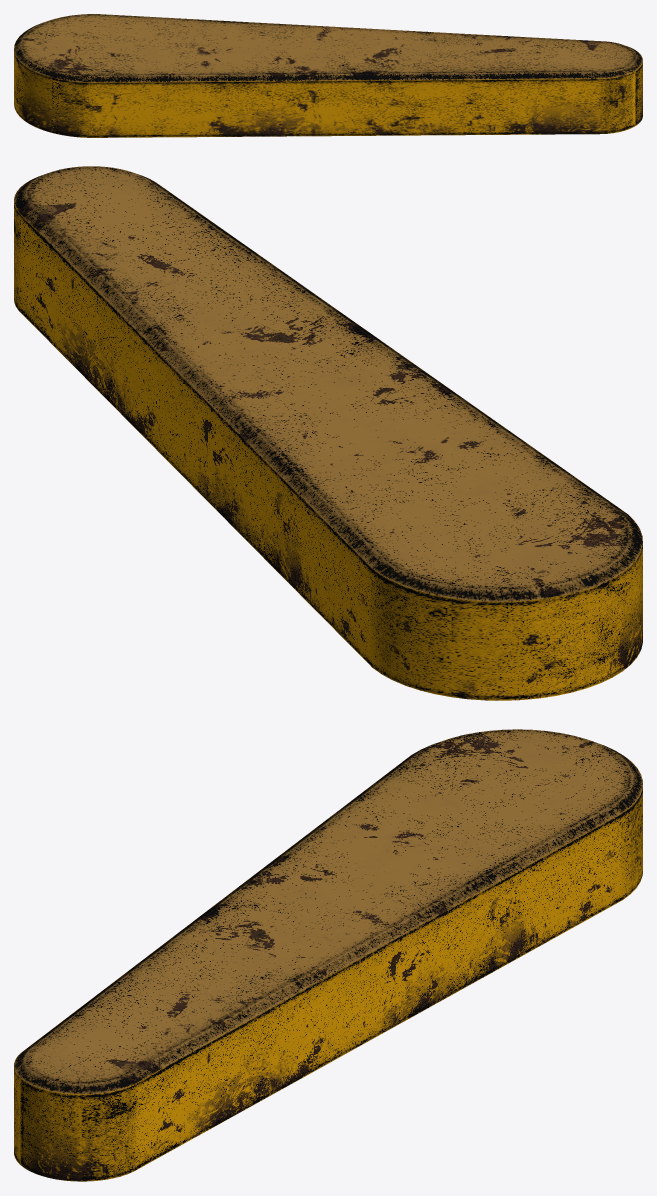
The model's file is newpinball_rebar12.fbx.
The picture shows the model from 3 angles, top to bottom: view 1: azimuth 30°, elevation 25°; view 2: azimuth 150°, elevation 25°; view 3: azimuth 270°, elevation 25°; orthographic projection. The views are drawn at different scales.
Parts seen in each view (by area): view 1: rebar12; view 2: rebar12; view 3: rebar12.
Boxes of the visible parts, x1,y1,x2,y2 form: rebar12: [14, 14, 642, 137]; rebar12: [14, 166, 642, 700]; rebar12: [14, 729, 642, 1181].
Size of the model in its own units: 38.2 by 4.55 by 27.92.
